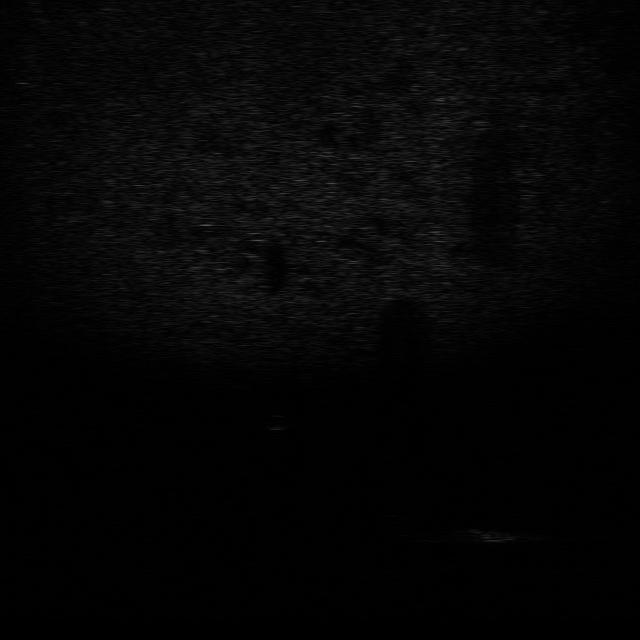ball: (260, 411, 294, 434)
metal bucket: (449, 524, 535, 545)
tyre: (374, 510, 441, 543)
